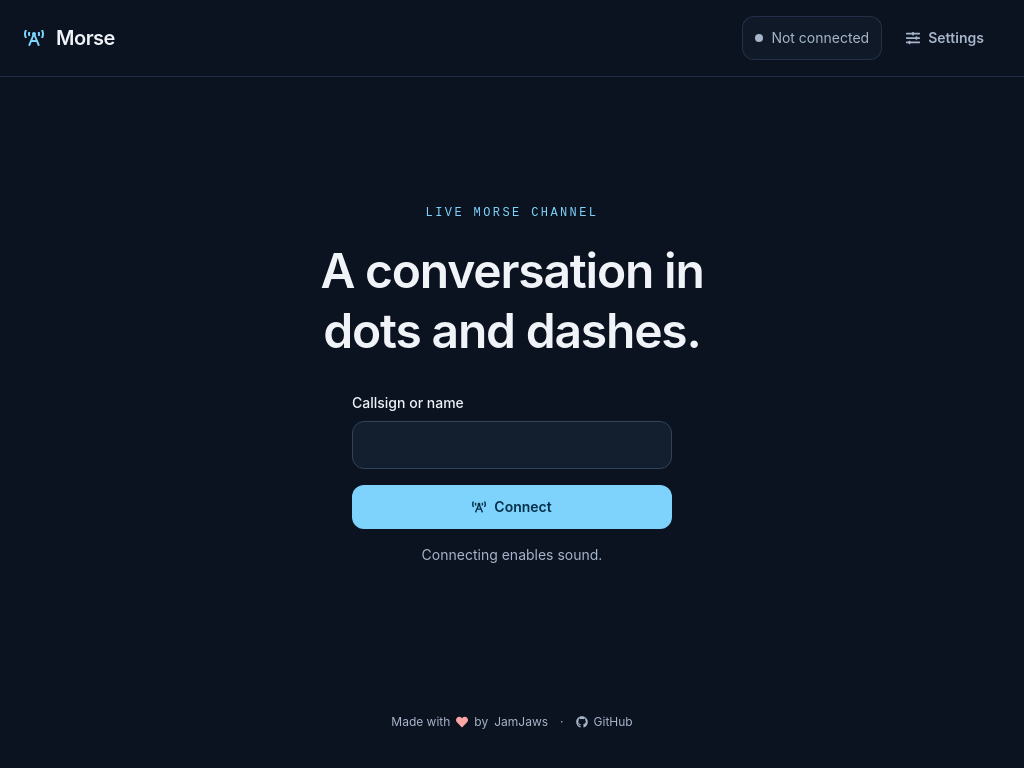
Test: allows retry after audio activation fails
Click the button "Connect": (512, 506) x1=352 y1=484 x2=672 y2=528
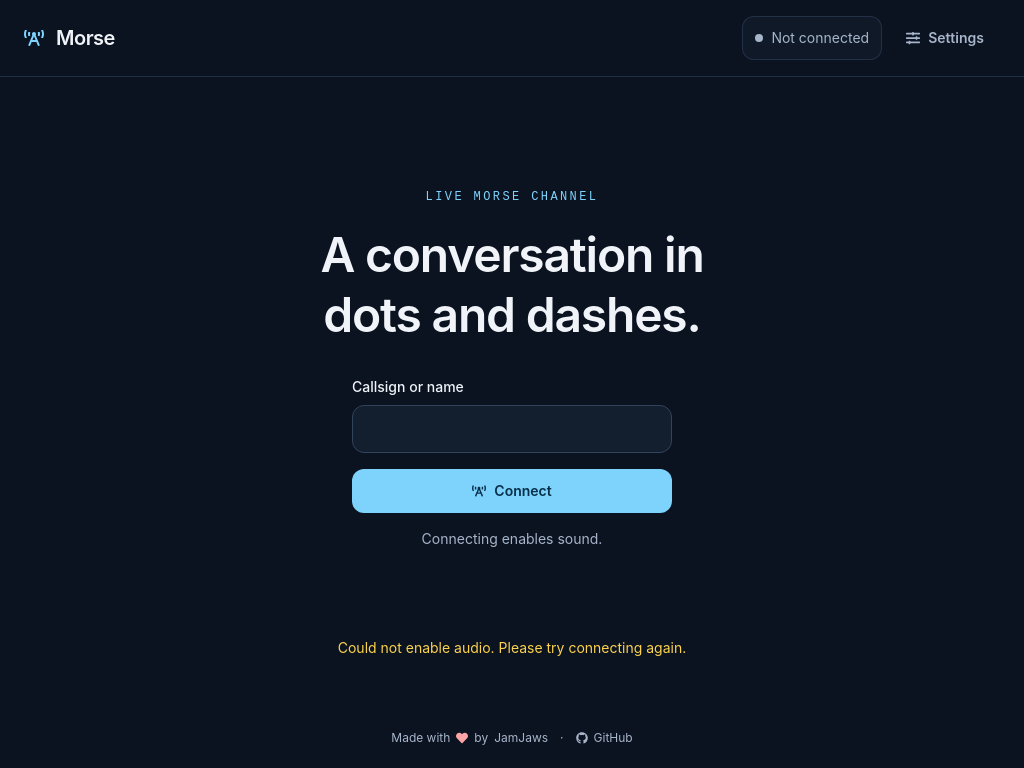
Expected: the text "Could not enable audio. Please try connecting again." is shown, x1=338 y1=637 x2=686 y2=660
Click the button "Connect": (512, 491) x1=352 y1=469 x2=672 y2=513
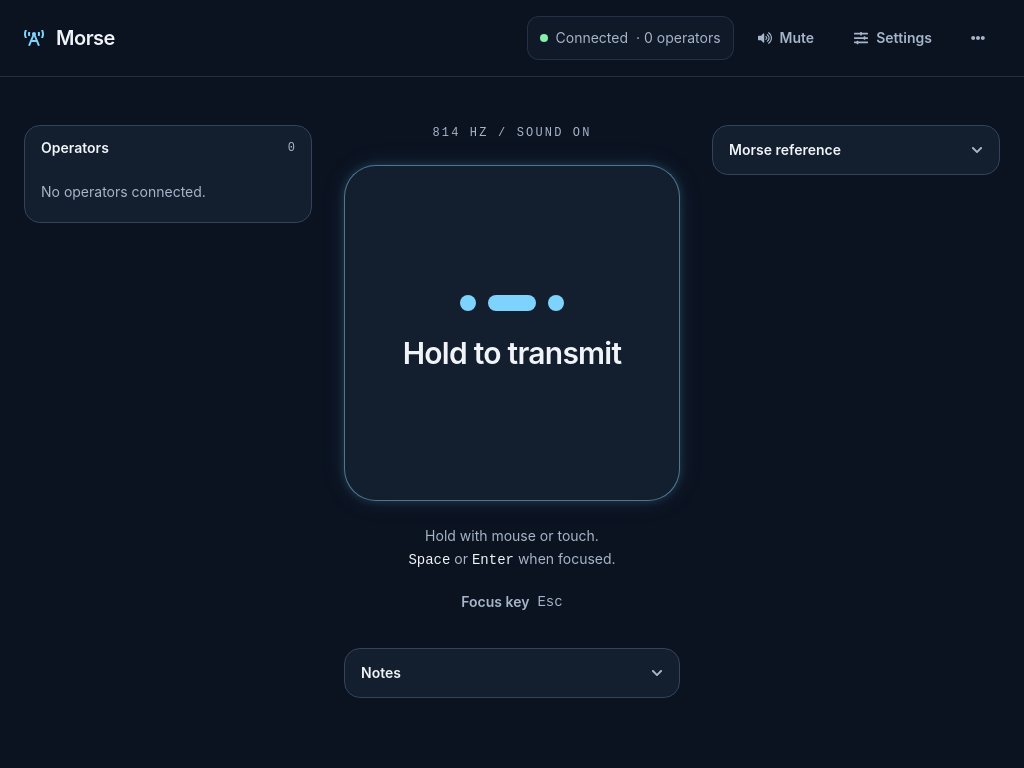
Expected: the button with aria-label "Morse key" is shown, x1=344 y1=165 x2=680 y2=501
